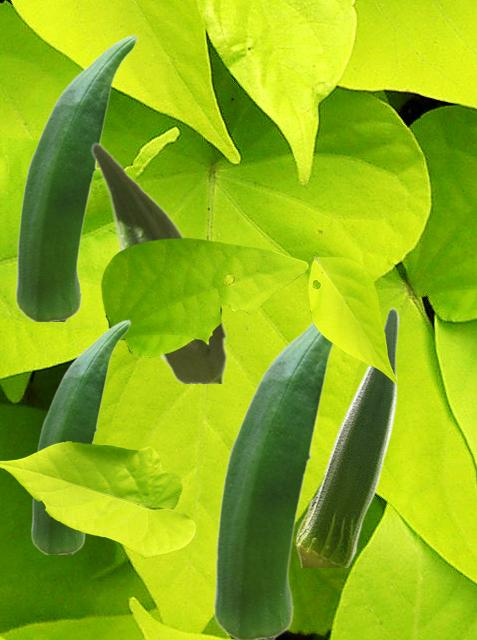okra: (212, 322, 334, 638), (14, 34, 137, 320), (90, 141, 225, 382), (295, 306, 398, 566), (30, 319, 130, 553)
